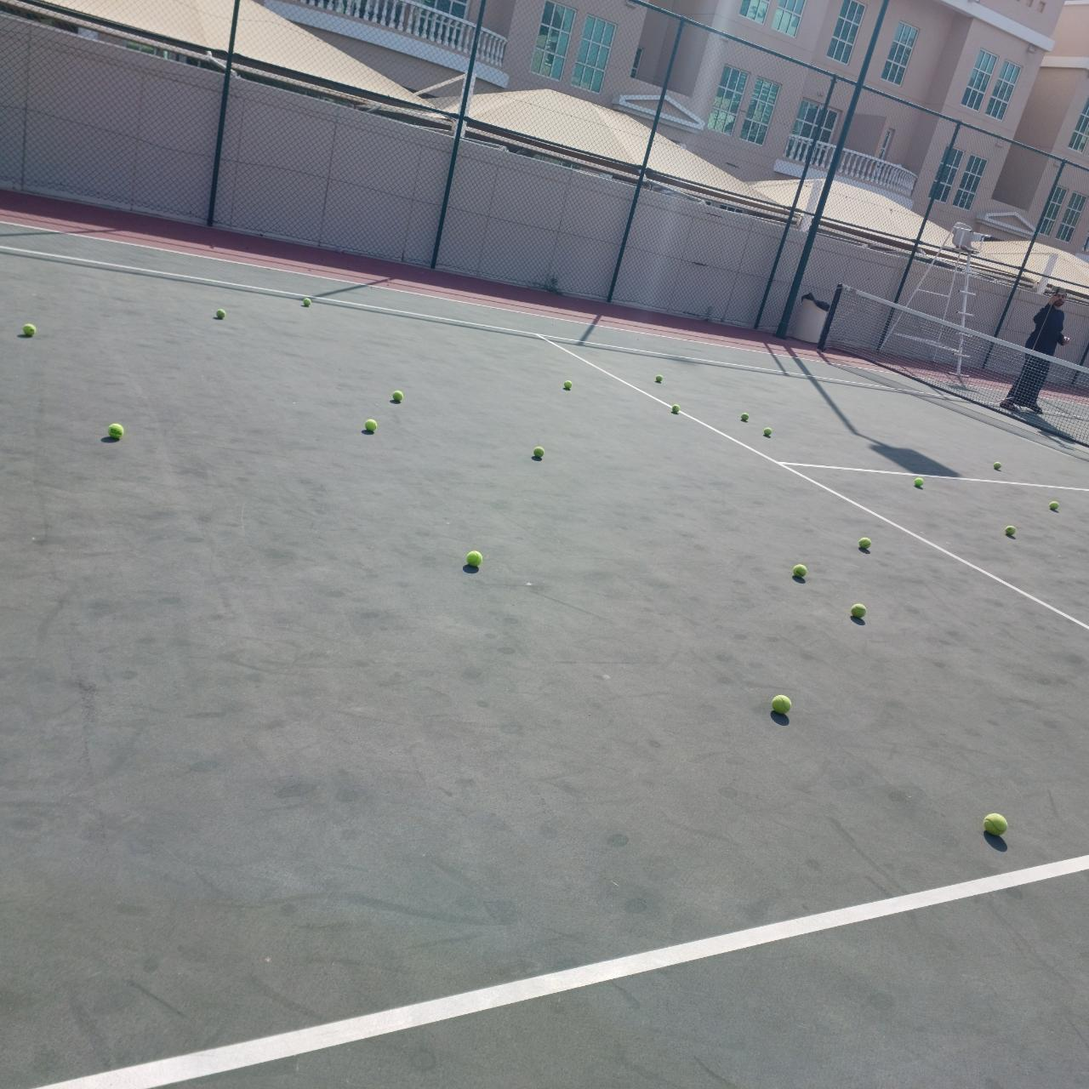tennis-ball: (982, 810, 1008, 836), (769, 693, 791, 713), (464, 548, 482, 567), (106, 420, 124, 439), (848, 602, 866, 620), (21, 323, 36, 338), (792, 564, 807, 579), (858, 537, 871, 550), (391, 391, 404, 403), (365, 419, 377, 432), (533, 446, 545, 458), (1005, 525, 1016, 537), (215, 309, 227, 319), (1049, 500, 1059, 511), (302, 297, 312, 307), (913, 477, 923, 487), (763, 427, 772, 437), (563, 380, 572, 389), (671, 404, 680, 413), (740, 412, 749, 421), (993, 461, 1001, 470), (656, 375, 663, 382)
